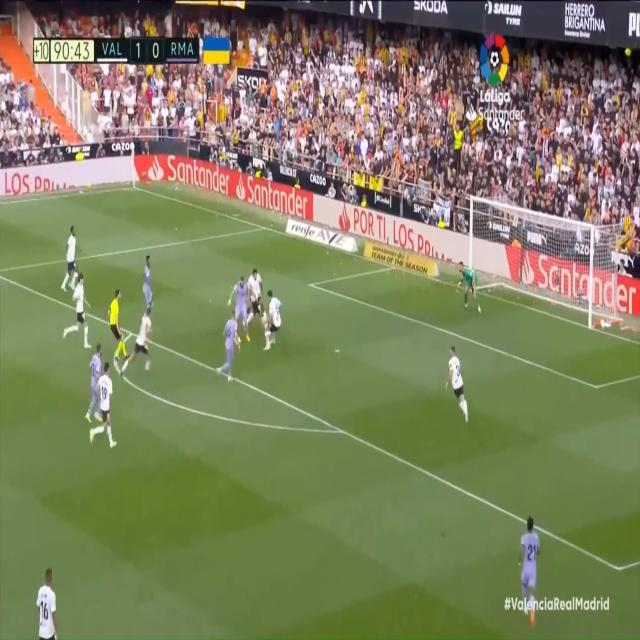ball: (236, 335, 244, 347)
goalkeeper: (455, 257, 483, 315)
player: (34, 560, 71, 640), (124, 303, 156, 387), (518, 510, 540, 631), (59, 270, 90, 351), (92, 361, 116, 450), (213, 307, 239, 388), (446, 341, 471, 424), (58, 224, 83, 296), (83, 343, 105, 424), (230, 273, 253, 349), (250, 263, 269, 336), (265, 288, 282, 353), (143, 242, 156, 316)
referee: (107, 283, 129, 370)
